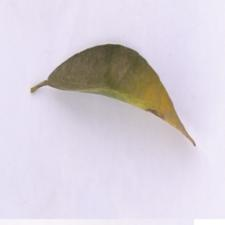Black: (133, 98, 166, 140)
